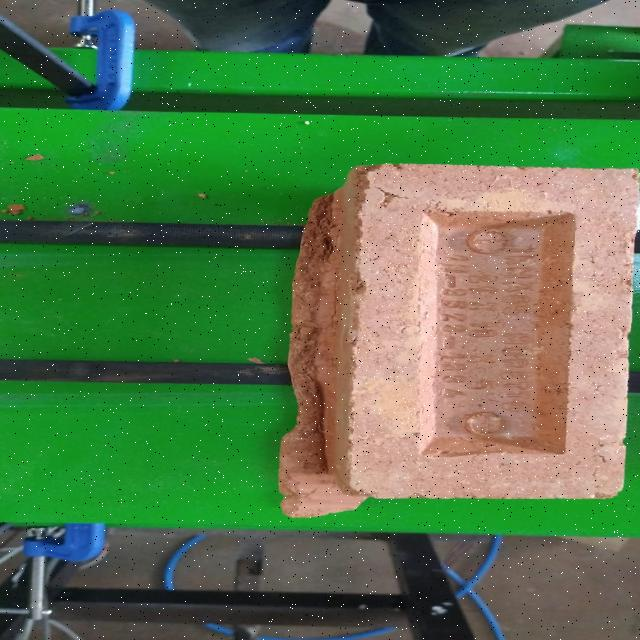bricks_ruin: (277, 162, 640, 517)
